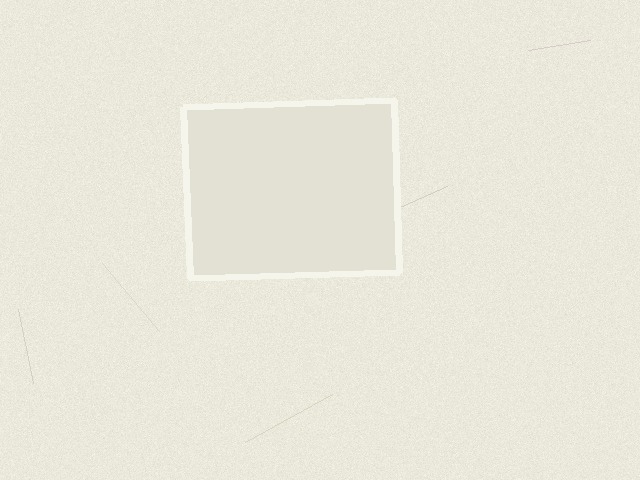parking_area: (183, 100, 399, 278)
